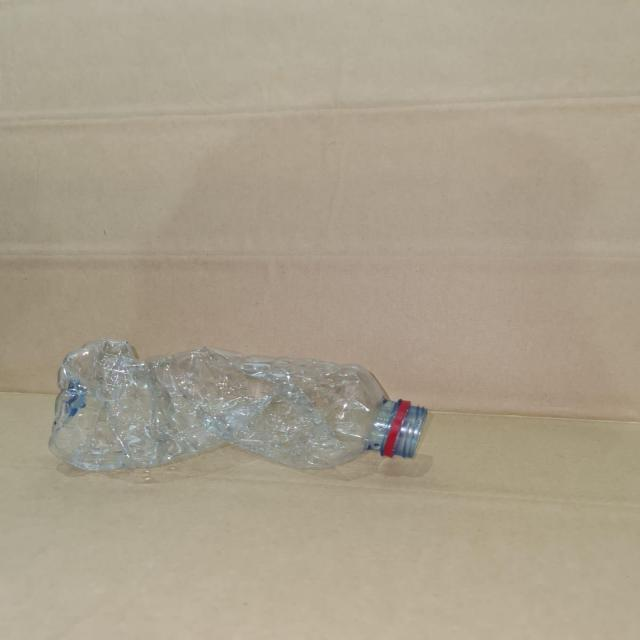bottle: (46, 336, 435, 471)
